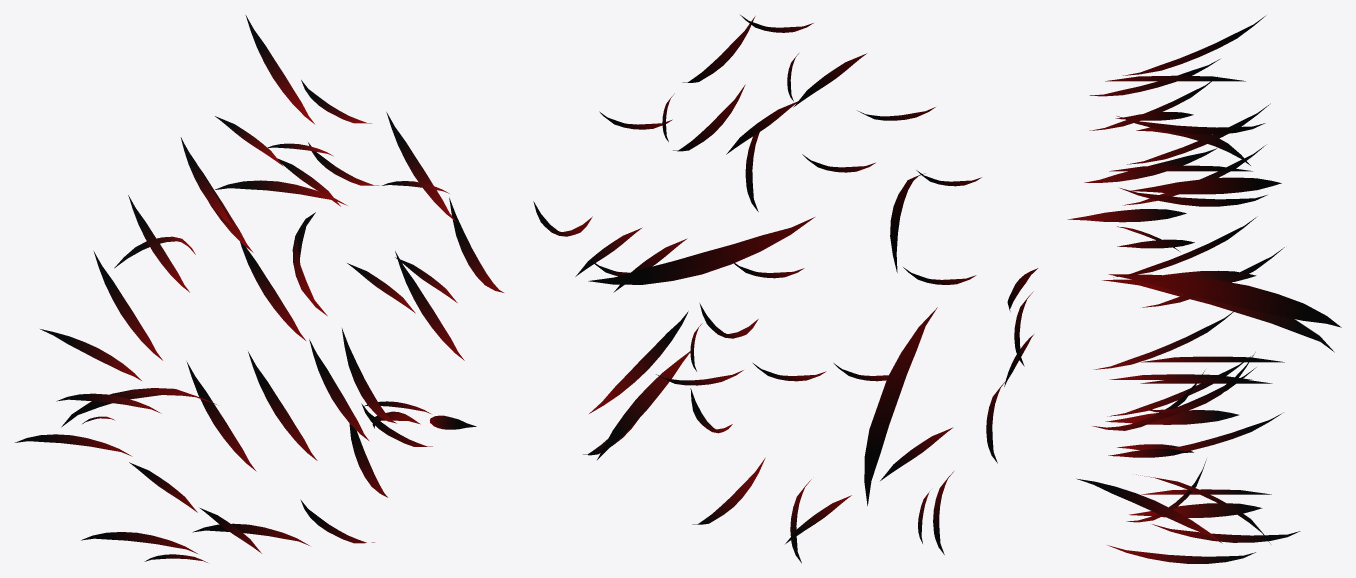
The model's file is Grass_mesh02.fbx.
The picture shows the model from 3 angles, left to right: view 1: azimuth 30°, elevation 25°; view 2: azimuth 150°, elevation 25°; view 3: azimuth 270°, elevation 25°; orthographic projection. The views are drawn at different scales.
Parts seen in each view (by area): view 1: grass; view 2: grass; view 3: grass.
Boxes of the visible parts, bbox=[...] form: grass: bbox=[15, 15, 503, 562]; grass: bbox=[533, 15, 1038, 563]; grass: bbox=[1067, 16, 1341, 563].
Size of the model in its own units: 6.93 by 7.59 by 3.6.
